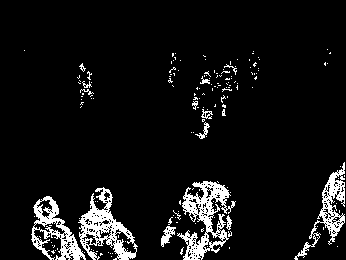person: (76, 185, 138, 260), (28, 194, 86, 260), (189, 69, 218, 140), (215, 59, 239, 120), (77, 61, 95, 109)
